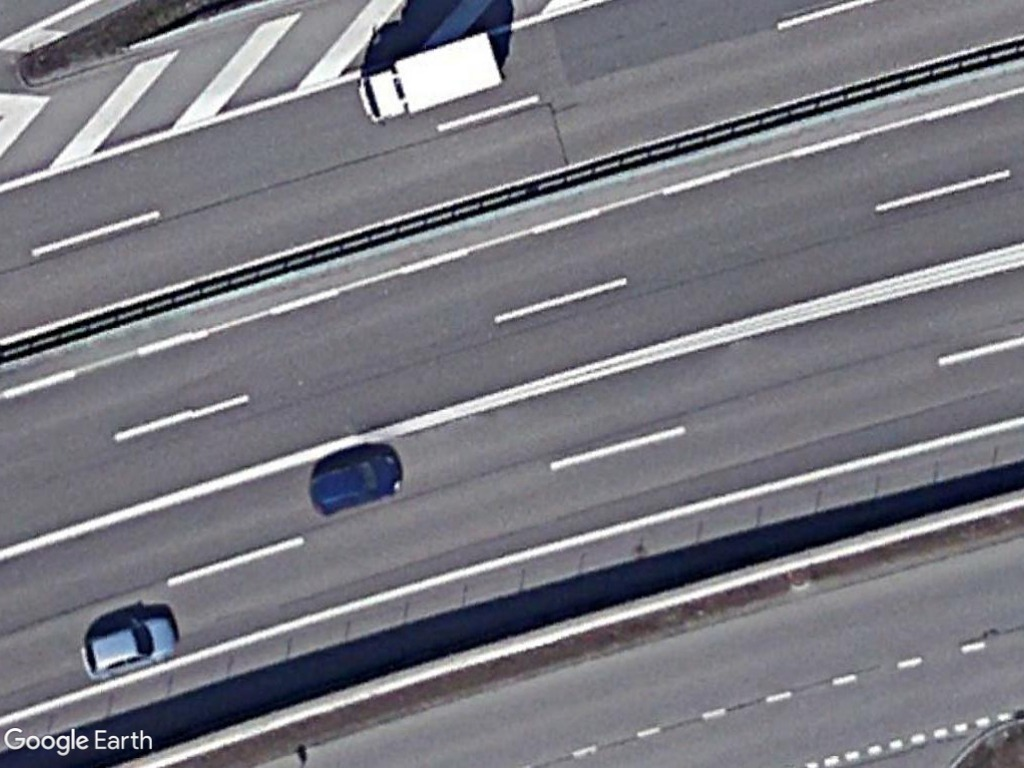car: (77, 614, 180, 682), (307, 451, 404, 516)
truck: (357, 28, 503, 127)
